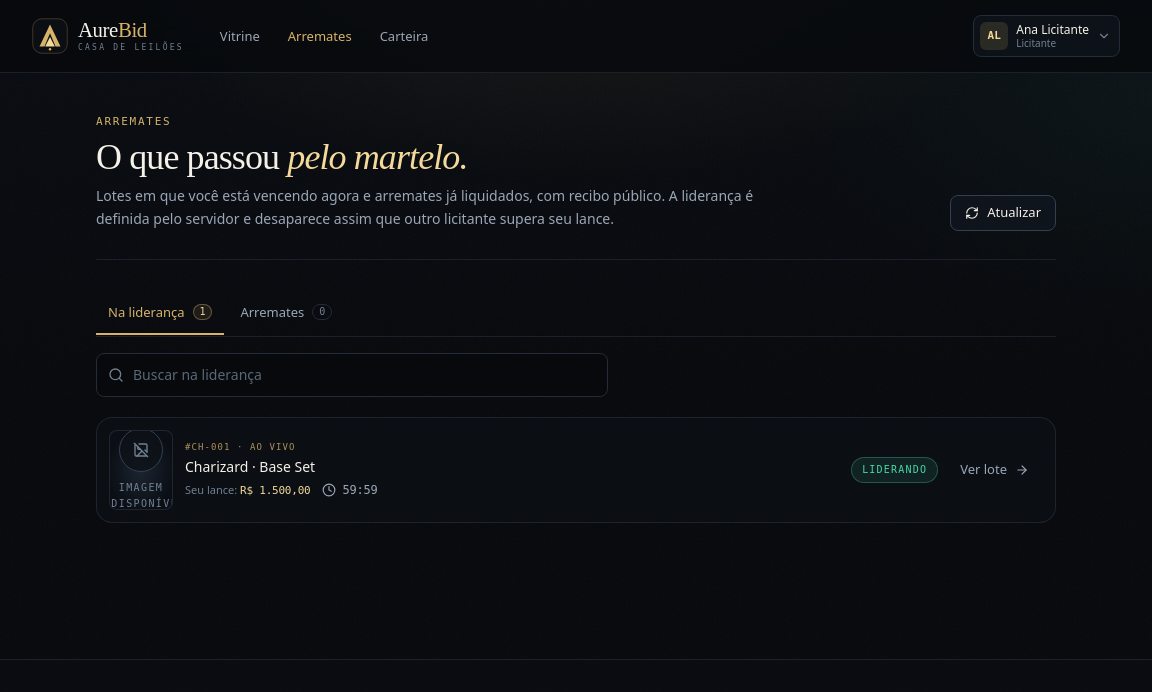
Test: meus arremates › filtra a aba ativa pela busca e permite limpar
The image size is (1152, 692).
Expected: the text "Charizard · Base Set" is shown, x1=185 y1=456 x2=315 y2=476
Type "pikachu" into the search field named "Buscar nos lotes em que estou liderando".
click(352, 375); type("pikachu")  # box x1=96 y1=353 x2=608 y2=397
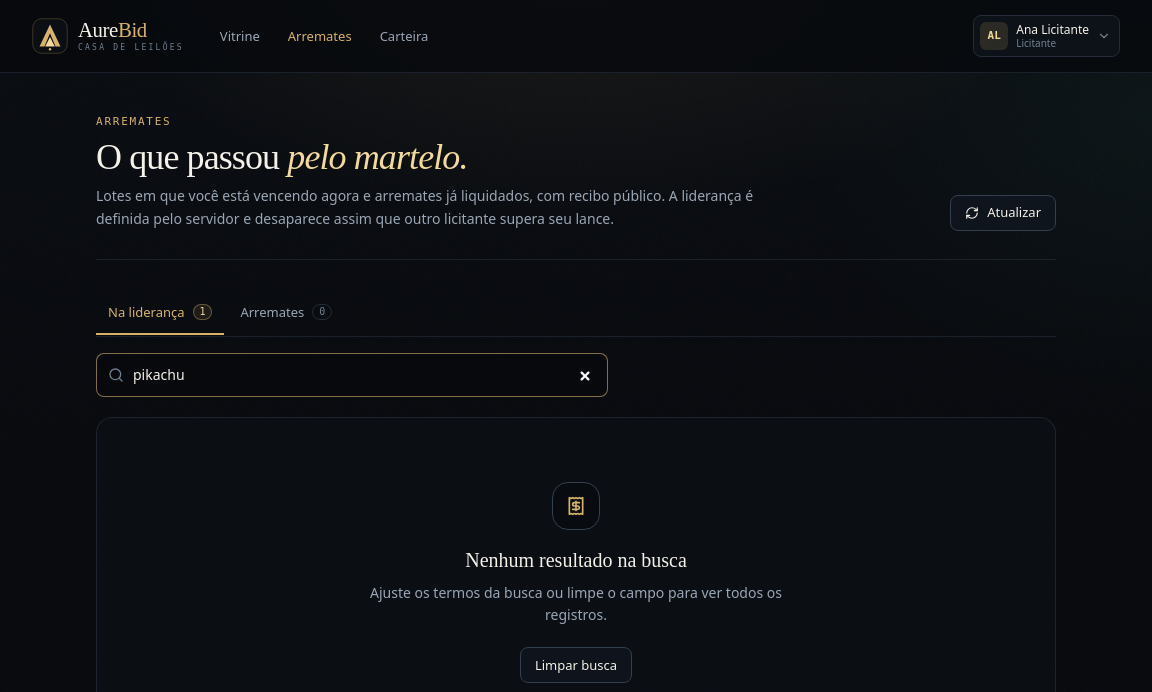
Expected: the heading "Nenhum resultado na busca" is shown, x1=465 y1=546 x2=687 y2=574
Click the button "Limpar busca".
click(576, 665)  # box x1=520 y1=647 x2=632 y2=683
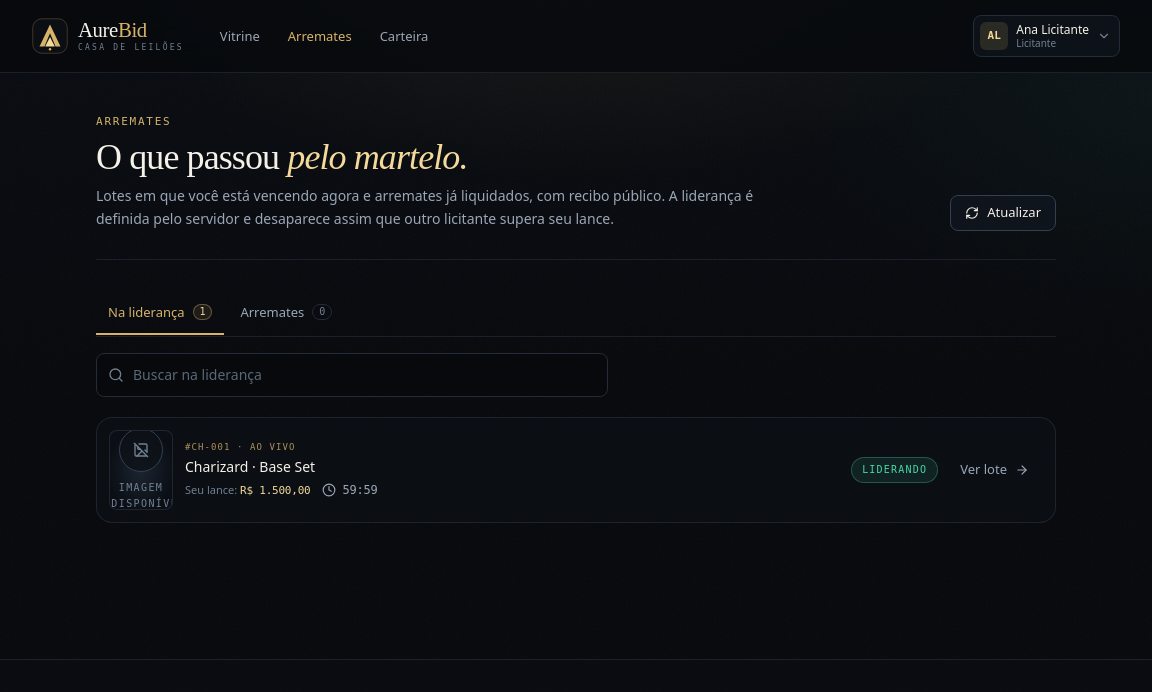
Expected: the text "Charizard · Base Set" is shown, x1=185 y1=456 x2=315 y2=476
